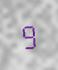nine: (19, 20, 37, 49)
